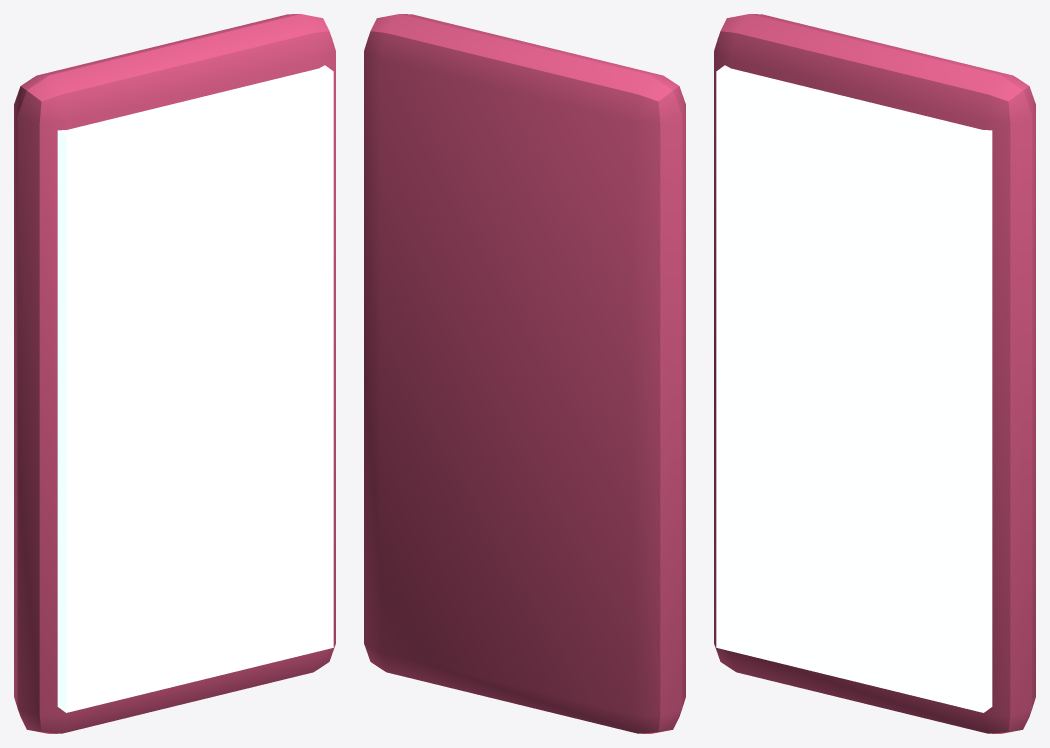
File: journey_phone.glb
3 renders of one model, left to right at view 1: azimuth 30°, elevation 25°; view 2: azimuth 150°, elevation 25°; view 3: azimuth 330°, elevation 25°, orthographic.
Parts seen in each view (by area): view 1: Phone_body; view 2: Phone_body; view 3: Phone_body.
Part boxes in pixels (<box>): Phone_body: <box>14,14,335,733</box>; Phone_body: <box>364,14,685,733</box>; Phone_body: <box>714,14,1035,733</box>.
Bounding box in the file's own units: 0.08 × 0.16 × 0.019.
